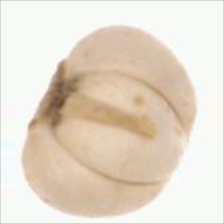L5: (54, 70, 189, 189), (29, 58, 71, 131)
L6: (15, 24, 198, 220)
